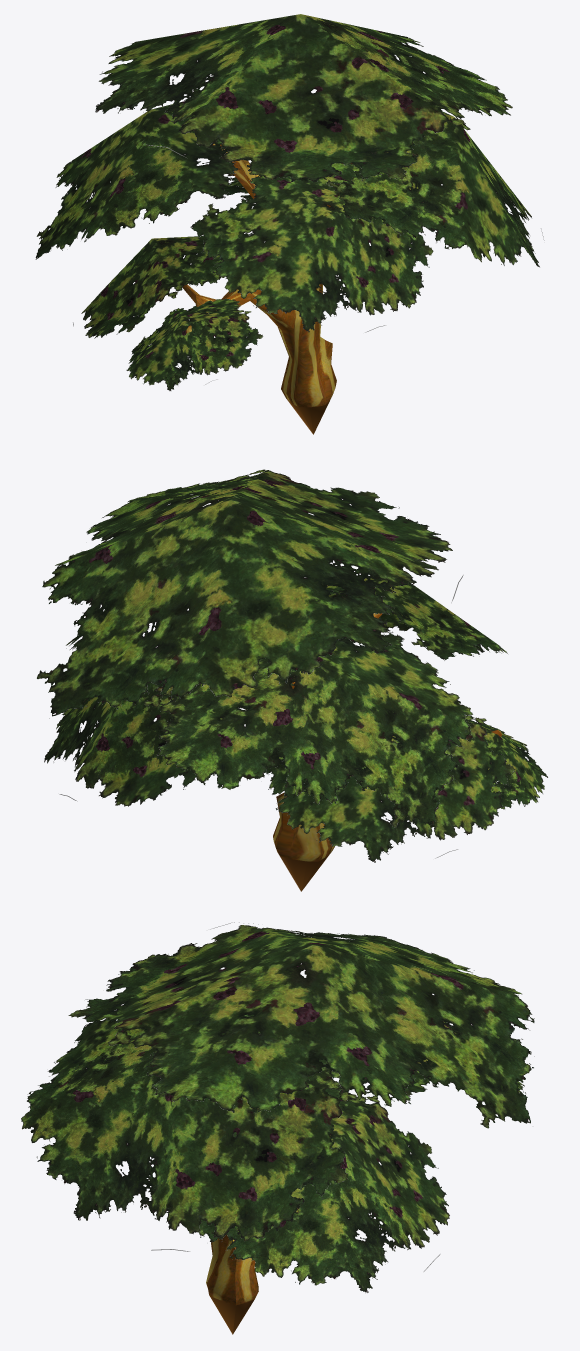
File: tree30m.dae
3 views of the same model, one above another, from view 1: azimuth 30°, elevation 25°; view 2: azimuth 150°, elevation 25°; view 3: azimuth 270°, elevation 25° (orthographic). The views are drawn at different scales.
Parts seen in each view (by area): view 1: Plane02-Pivot, Cylinder01-Pivot; view 2: Plane02-Pivot, Cylinder01-Pivot; view 3: Plane02-Pivot, Cylinder01-Pivot.
Part boxes in pixels (left/top/right/bottom): Plane02-Pivot: left=35, top=14, right=544, bottom=390; Cylinder01-Pivot: left=182, top=143, right=352, bottom=434; Plane02-Pivot: left=36, top=469, right=547, bottom=862; Cylinder01-Pivot: left=273, top=613, right=501, bottom=891; Plane02-Pivot: left=21, top=922, right=534, bottom=1292; Cylinder01-Pivot: left=206, top=1234, right=258, bottom=1334.
Size of the model in its own units: 46.02 by 38.26 by 47.53.
Materials: 2 (2 with a texture image).
